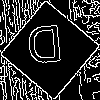D: (25, 25, 65, 74)
